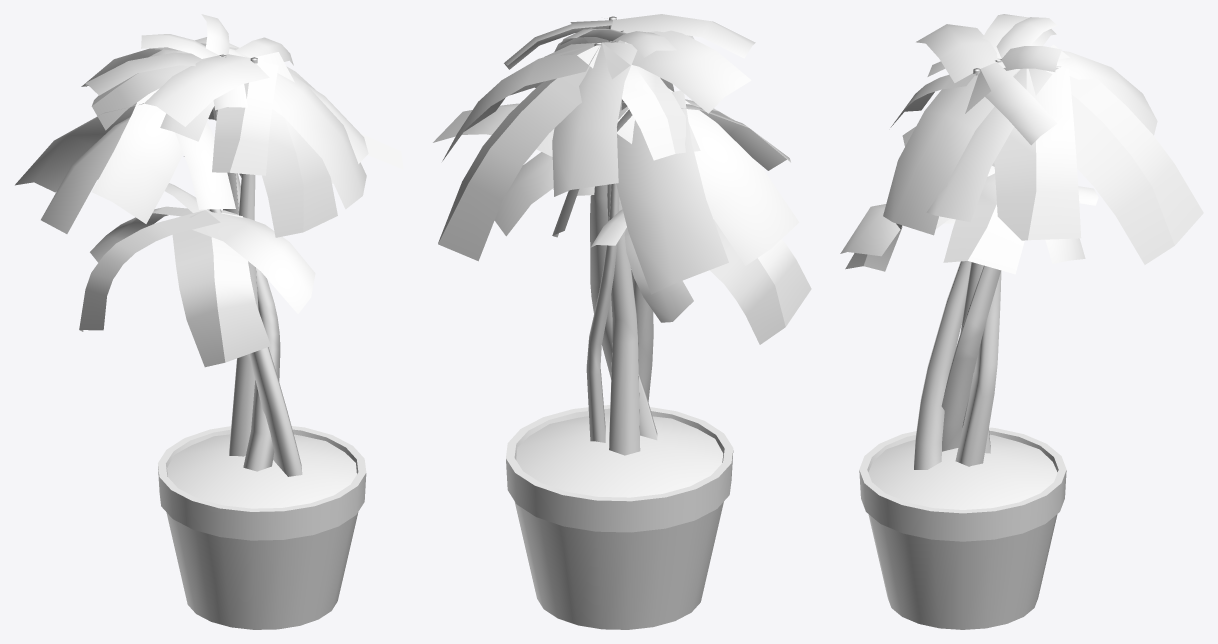
The model's file is lwefo9ueh1j4-eb_house_plant_03.glb.
The picture shows the model from 3 angles, left to right: view 1: azimuth 30°, elevation 25°; view 2: azimuth 150°, elevation 25°; view 3: azimuth 270°, elevation 25°; orthographic projection. The views are drawn at different scales.
Parts seen in each view (by area): view 1: polySurface7; view 2: polySurface7; view 3: polySurface7.
Part boxes in pixels (x1=…): polySurface7: x1=15, y1=14, x2=403, y2=629; polySurface7: x1=433, y1=14, x2=811, y2=629; polySurface7: x1=840, y1=14, x2=1203, y2=629.
Size of the model in its own units: 0.3741 by 0.6062 by 0.3663.
1 material, 1 textured.
